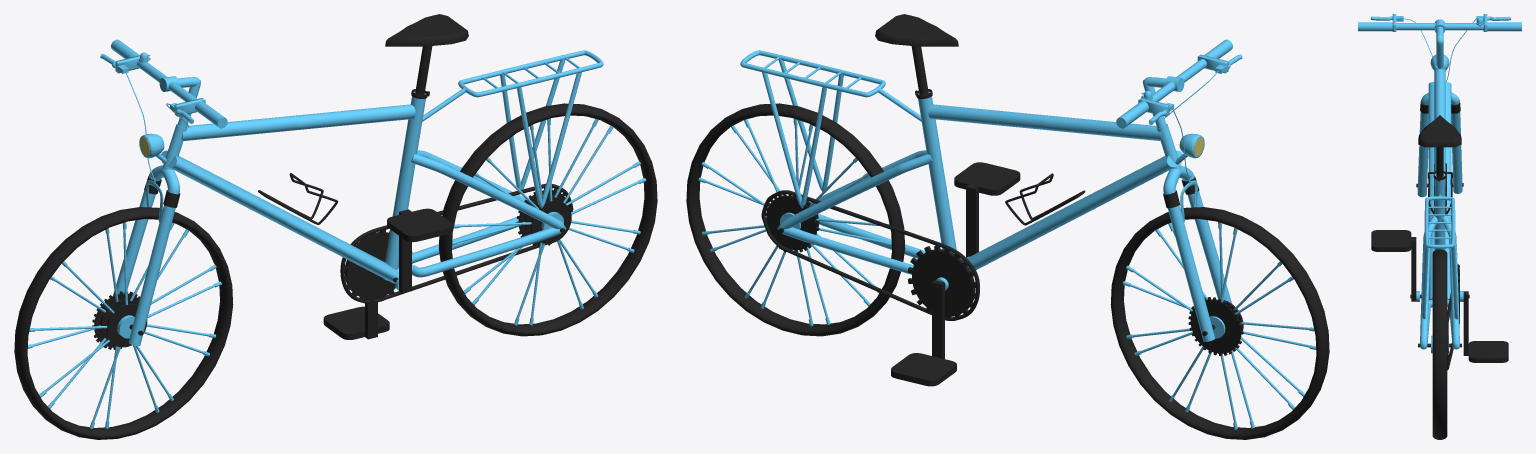
Rendered from bike.glb.
The picture shows the model from 3 angles, left to right: view 1: azimuth 30°, elevation 25°; view 2: azimuth 150°, elevation 25°; view 3: azimuth 270°, elevation 25°; orthographic projection. The views are drawn at different scales.
Visible parts, largest first — view 1: Tier (×2), Spline 3D, FrameTop, FrameFrontBottom, BackFrameL, Pedal (×2), Frame, Seat, PedalsAndGear, BackRest, Chain, MiddleTop (×2) (+5 smaller); view 2: Tier (×2), Spline 3D, FrameTop, FrameFrontBottom, Pedal (×2), BackFrameR, MiddleBottomBumps2 (×2), PedalsAndGear, Chain, Frame, CrankArm (×2), Seat (+5 smaller); view 3: Tier, Pedal (×2), Spline 3D, FrameFrontBottom, Seat, BackFrameL, BackFrameR, CrankArm (×2), FrameTop, Cylinder (×2), Frame, BackRest (+7 smaller).
Boxes of the visible parts, box(x1,y1,x2,y2) form: Tier (×2): box(14, 103, 657, 439); Spline 3D: box(161, 150, 398, 283); FrameTop: box(181, 104, 415, 140); FrameFrontBottom: box(113, 165, 179, 346); BackFrameL: box(396, 154, 566, 277); Pedal (×2): box(323, 208, 452, 339); Frame: box(383, 91, 425, 280); Seat: box(385, 14, 468, 46); PedalsAndGear: box(344, 232, 395, 299); BackRest: box(458, 50, 603, 97); Chain: box(340, 183, 573, 303); MiddleTop (×2): box(106, 200, 571, 347); Tier (×2): box(686, 103, 1329, 439); Spline 3D: box(963, 150, 1182, 271); FrameTop: box(928, 104, 1162, 140); FrameFrontBottom: box(1163, 165, 1231, 341); Pedal (×2): box(891, 162, 1020, 386); BackFrameR: box(777, 154, 932, 274); MiddleBottomBumps2 (×2): box(766, 195, 1241, 353); PedalsAndGear: box(912, 249, 975, 316); Chain: box(761, 190, 979, 320); Frame: box(918, 91, 956, 253); CrankArm (×2): box(932, 184, 978, 358); Seat: box(875, 14, 958, 46); Tier: box(1432, 249, 1447, 439); Pedal (×2): box(1371, 230, 1508, 362); Spline 3D: box(1428, 81, 1451, 300); FrameFrontBottom: box(1417, 92, 1462, 197); Seat: box(1418, 115, 1461, 147); BackFrameL: box(1420, 216, 1437, 349); BackFrameR: box(1442, 216, 1459, 349); CrankArm (×2): box(1411, 237, 1468, 355); FrameTop: box(1434, 68, 1445, 184); Cylinder (×2): box(1358, 22, 1521, 31); Frame: box(1434, 173, 1445, 250); BackRest: box(1424, 196, 1455, 248).
Bounding box in the file's own units: 1.56 × 0.8201 × 0.45.
